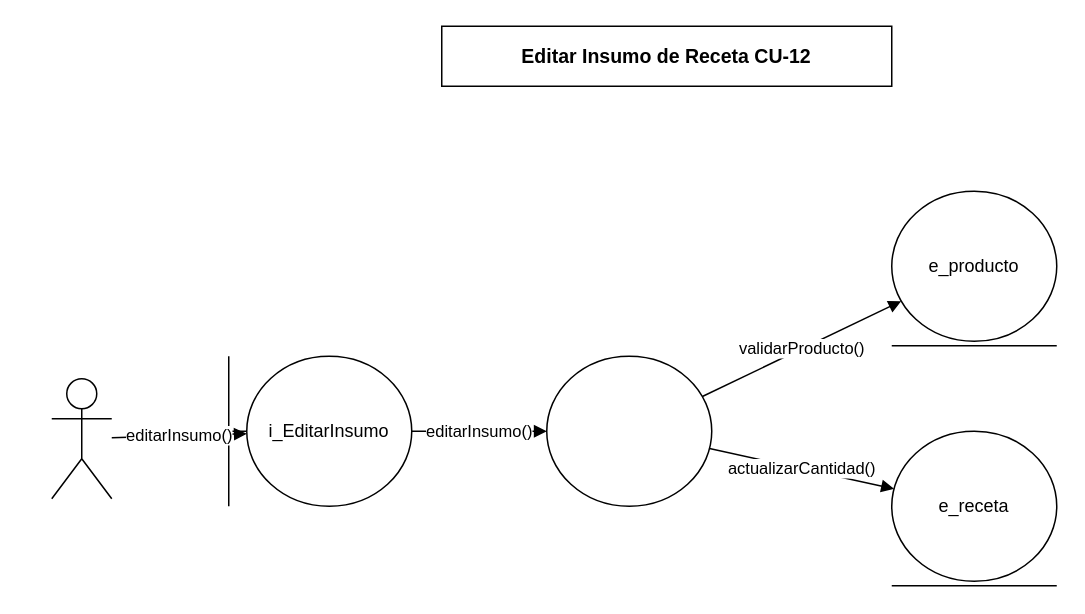
Image size: 1085x614. Some labels were removed from this diagram. The shapes that lost their labels are listed below. From the top down, each one's centre as x and y in pixels, then its label:
(x=81, y=438): Administrador
(x=628, y=430): c_EditarInsumo
